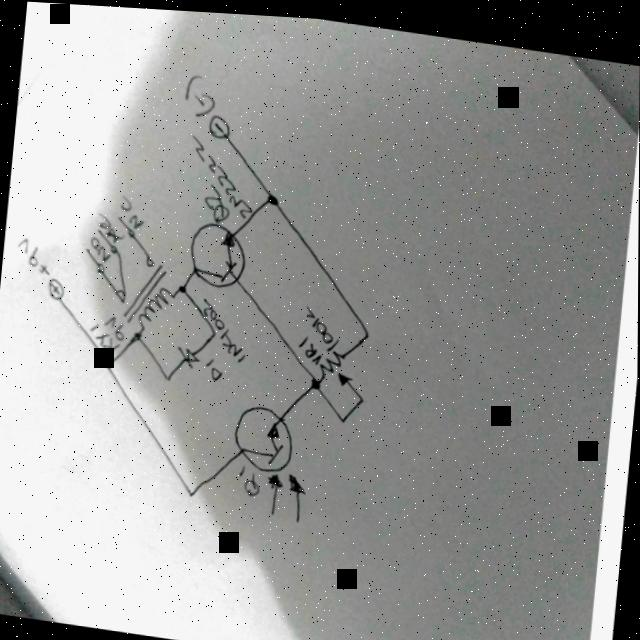diode: (174, 337, 202, 368)
junction: (266, 189, 279, 203), (162, 368, 173, 380), (209, 326, 220, 338), (177, 280, 188, 292), (309, 373, 320, 385), (355, 389, 366, 401), (187, 485, 198, 496), (103, 357, 114, 368), (132, 328, 143, 339), (338, 410, 349, 421), (361, 324, 372, 335)
resistor: (317, 341, 358, 384)
terminal: (205, 109, 234, 138), (44, 277, 69, 304), (114, 210, 125, 222), (82, 243, 93, 255), (93, 223, 104, 235)
text: (181, 129, 258, 225), (197, 294, 250, 360), (295, 298, 343, 363), (180, 67, 219, 118), (85, 310, 126, 357), (13, 235, 53, 274), (235, 460, 264, 495), (118, 194, 147, 227), (95, 209, 123, 241), (88, 233, 112, 262), (203, 352, 227, 380)
transistor: (223, 395, 319, 522), (182, 216, 252, 288)
